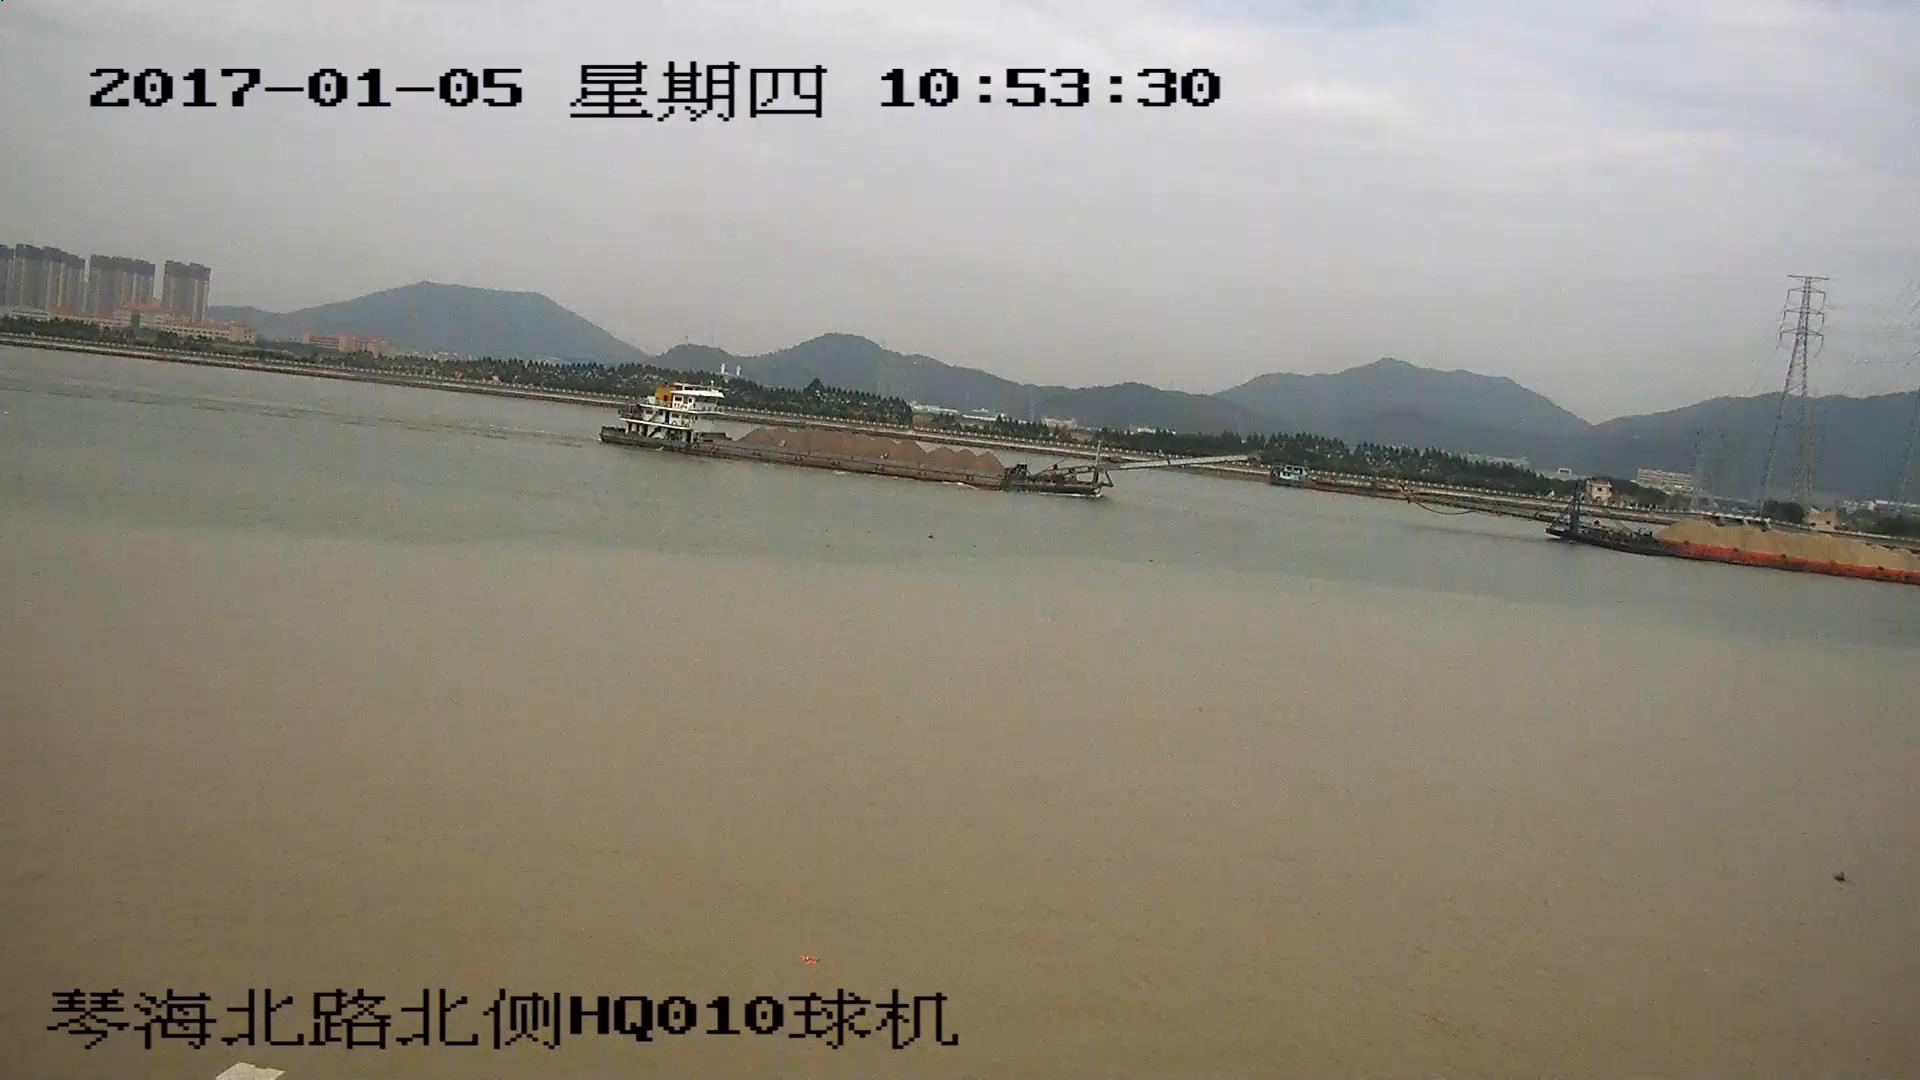ore carrier: (606, 390, 1255, 494), (1443, 480, 1920, 583)
